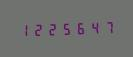five: (59, 20, 72, 36)
four: (87, 19, 100, 35)
one: (17, 21, 30, 38)
seven: (101, 18, 114, 35)
six: (73, 19, 86, 36)
two: (45, 20, 58, 37), (31, 21, 44, 37)
